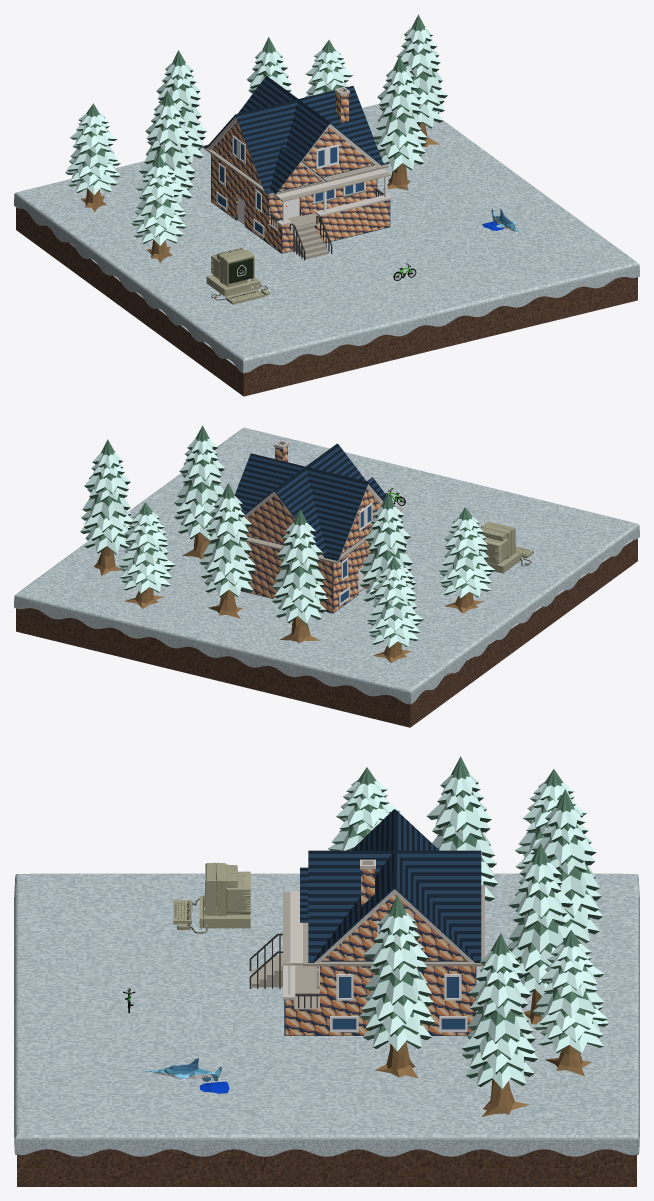
The picture shows the model from 3 angles, top to bottom: view 1: azimuth 30°, elevation 25°; view 2: azimuth 150°, elevation 25°; view 3: azimuth 270°, elevation 25°; orthographic projection. The views are drawn at different scales.
Parts seen in each view (by area): view 1: Cube.003, Cube.430, OBJRANDOM_RETRO_PC; view 2: Cube.003, Cube.430, OBJRANDOM_RETRO_PC; view 3: Cube.003, Cube.430, OBJRANDOM_RETRO_PC, ANIMAL_PEZ_ESPADA.
Boxes of the visible parts, <box> form: Cube.003: <box>14,14,639,396</box>; Cube.430: <box>202,76,393,260</box>; OBJRANDOM_RETRO_PC: <box>206,248,269,304</box>; Cube.003: <box>14,425,639,727</box>; Cube.430: <box>235,440,405,613</box>; OBJRANDOM_RETRO_PC: <box>481,521,533,573</box>; Cube.003: <box>14,756,639,1186</box>; Cube.430: <box>249,809,484,1035</box>; OBJRANDOM_RETRO_PC: <box>173,862,250,933</box>; ANIMAL_PEZ_ESPADA: <box>142,1058,229,1093</box>.
Size of the model in its own units: 4040 by 1844 by 4040.
34 materials, 4 textured.
